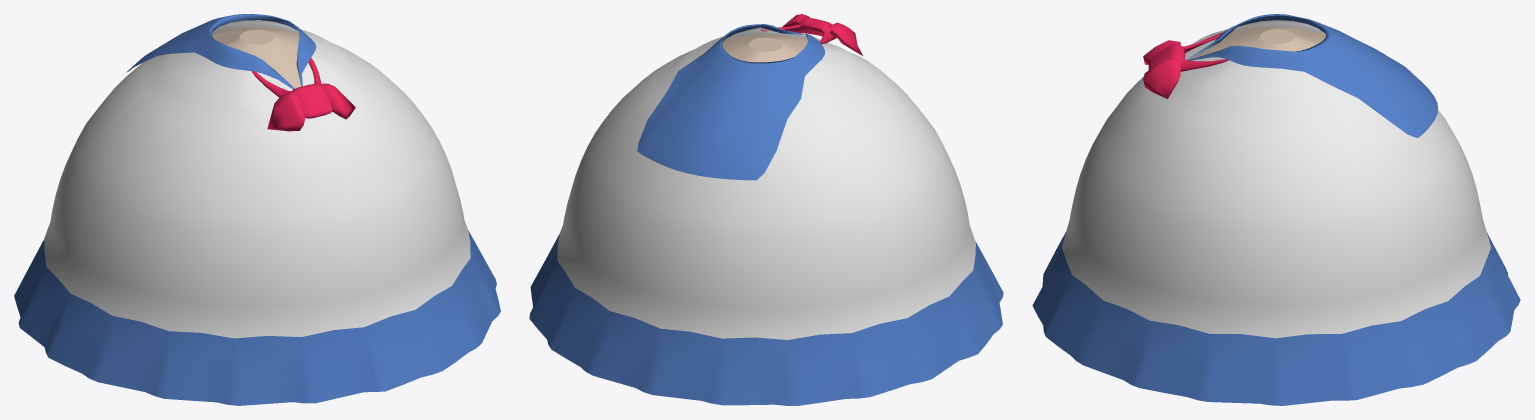
Rendered from Body.fbx.
3 renders of one model, left to right at view 1: azimuth 30°, elevation 25°; view 2: azimuth 150°, elevation 25°; view 3: azimuth 270°, elevation 25°, orthographic.
Visible parts, largest first — view 1: Body; view 2: Body; view 3: Body.
Boxes of the visible parts, x1,y1,x2,y2 form: Body: (14,14,500,405); Body: (529,14,1003,405); Body: (1032,14,1520,405).
Size of the model in its own units: 106 by 77.95 by 106.
